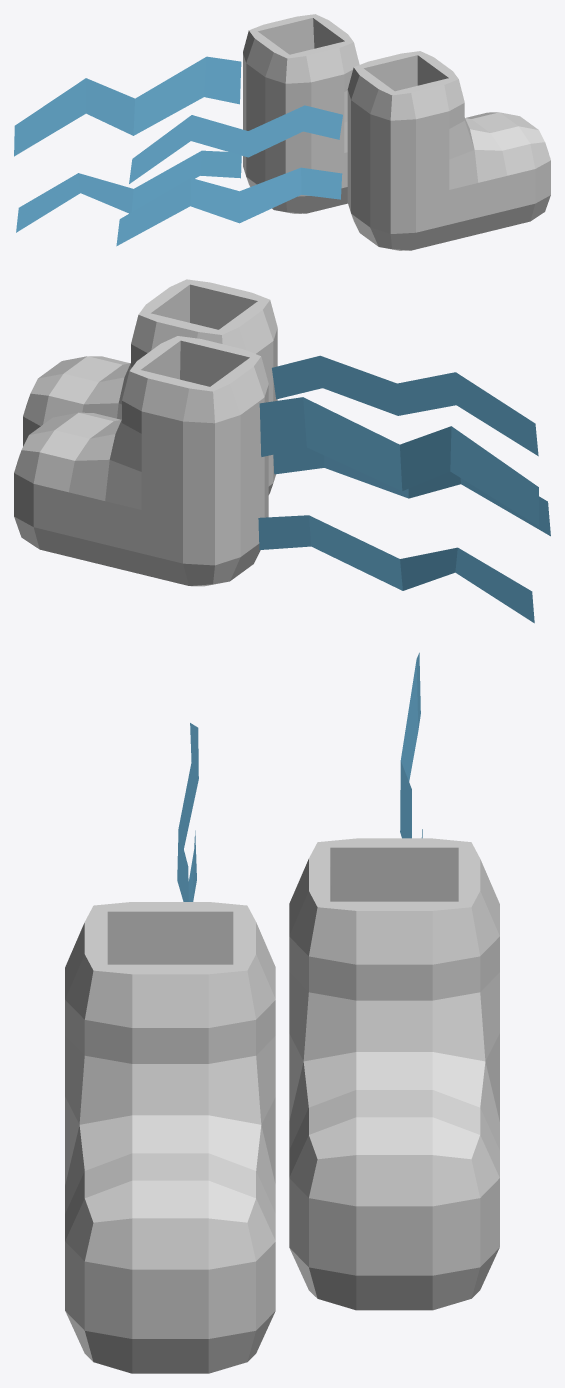
The model's file is Medieval.fbx_Boots.fbx.
The picture shows the model from 3 angles, top to bottom: view 1: azimuth 30°, elevation 25°; view 2: azimuth 150°, elevation 25°; view 3: azimuth 270°, elevation 25°; orthographic projection. The views are drawn at different scales.
Visible parts, largest first — view 1: Boots.001, SpeedLines; view 2: Boots.001, SpeedLines; view 3: Boots.001, SpeedLines.
Boxes of the visible parts, bbox=[...] form: Boots.001: bbox=[243, 14, 550, 250]; SpeedLines: bbox=[14, 56, 342, 246]; Boots.001: bbox=[14, 279, 277, 586]; SpeedLines: bbox=[258, 355, 550, 623]; Boots.001: bbox=[65, 838, 499, 1373]; SpeedLines: bbox=[177, 652, 422, 901].
Bounding box in the file's own units: 268 × 109 × 99.78.
